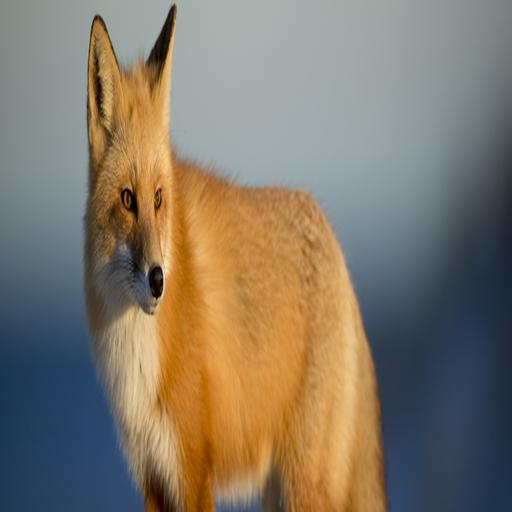Fox: (40, 11, 410, 512)
